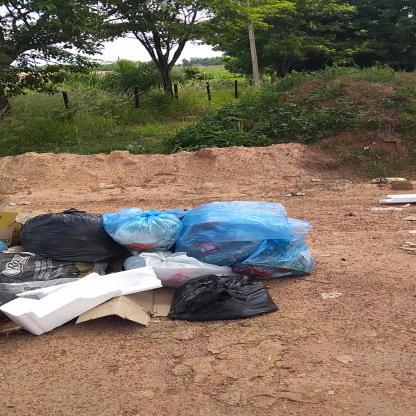lixo: (9, 210, 291, 320)
